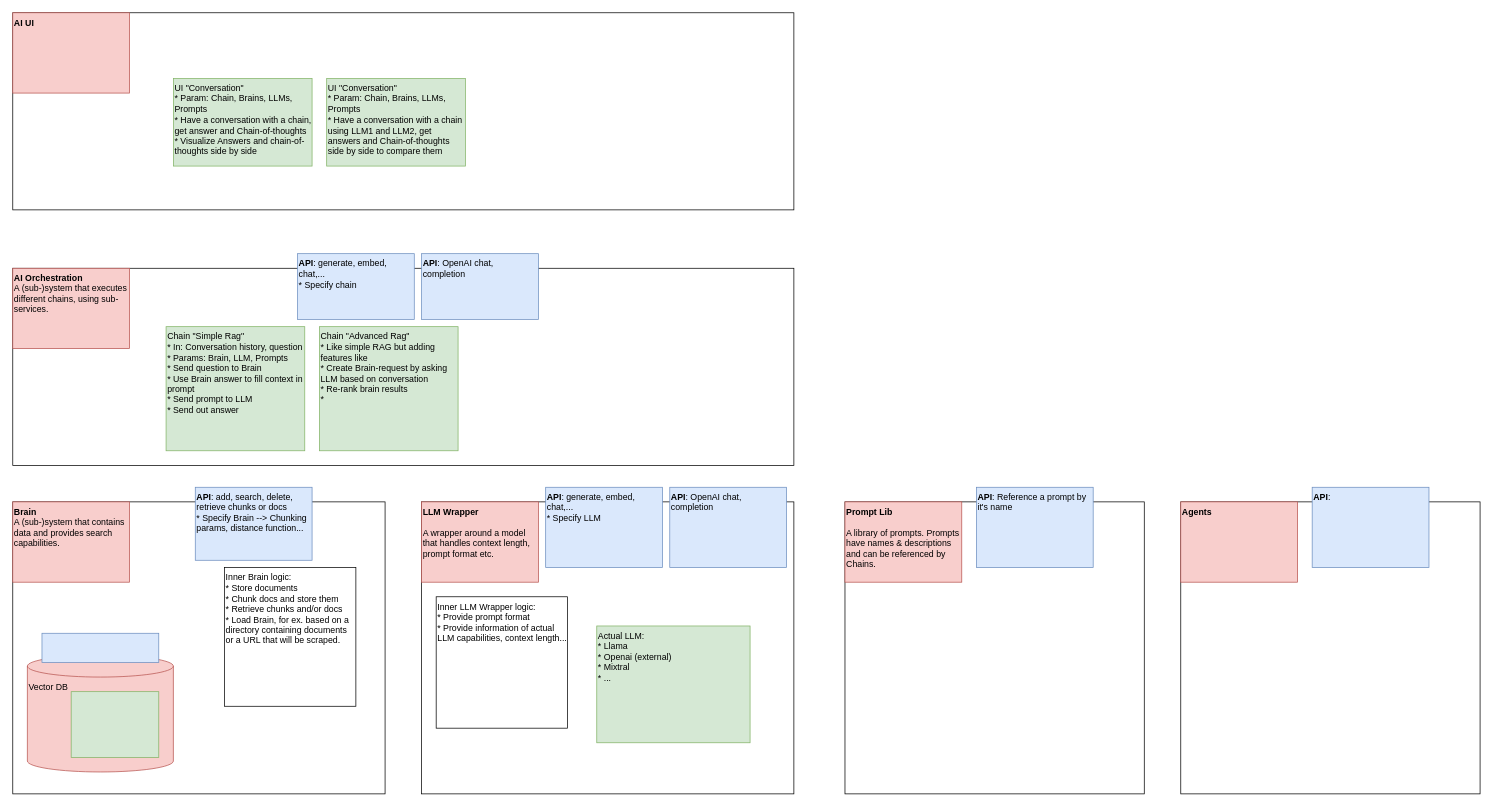
Some shapes in this 1493 by 807 pixel diagram are drawn without their labels. Each missing label, with the centre of its shape:
"API : add, search with distance function, delete" belongs at point (100, 647).
"Vector DB implementation: * Milvus * Chroma * ..." belongs at point (114, 724).
